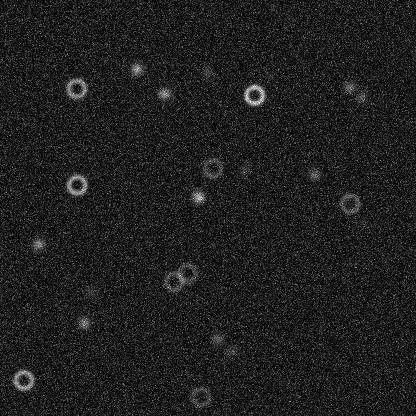Ring: (175, 261, 199, 285), (188, 384, 212, 408), (162, 269, 186, 293), (337, 191, 361, 215), (64, 76, 88, 100), (11, 367, 35, 391), (200, 155, 224, 179), (242, 82, 266, 106), (64, 172, 88, 196)
Spot: (199, 63, 215, 79), (76, 314, 92, 330), (128, 61, 144, 77), (30, 235, 46, 251), (236, 162, 252, 178), (262, 68, 278, 84), (354, 215, 370, 231), (209, 331, 225, 347), (82, 282, 98, 298), (223, 342, 239, 358), (156, 85, 172, 101), (305, 166, 321, 182), (190, 189, 206, 205), (341, 79, 357, 95), (354, 89, 370, 105)
